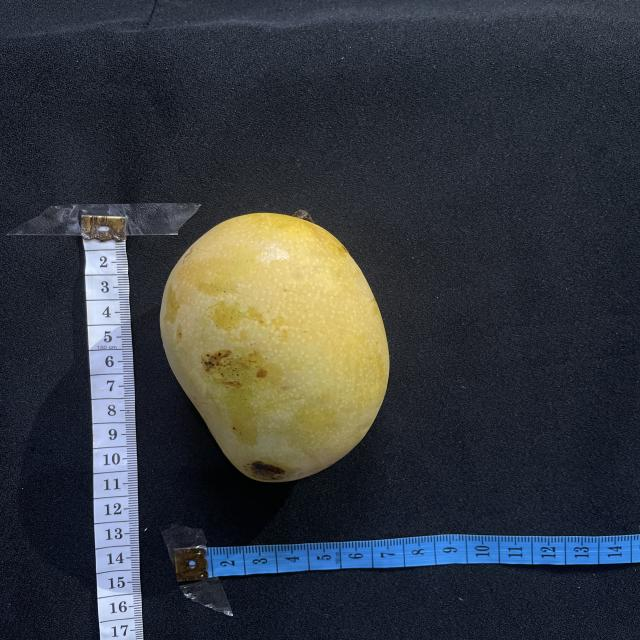Ripe: (160, 213, 389, 482)
